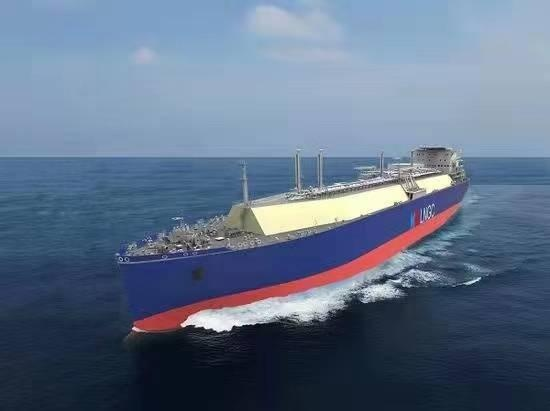Cargoship: (114, 139, 469, 334)
